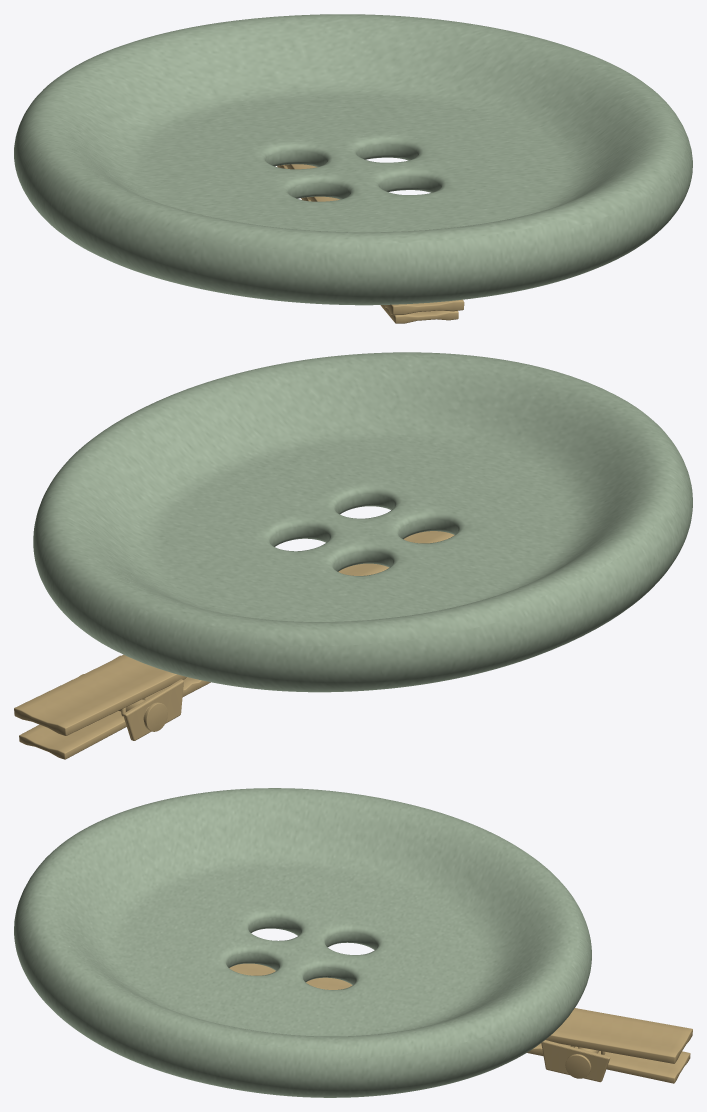
The model's file is HairClip_Silicone.glb.
3 views of the same model, one above another, from view 1: azimuth 30°, elevation 25°; view 2: azimuth 150°, elevation 25°; view 3: azimuth 270°, elevation 25° (orthographic). The views are drawn at different scales.
Parts seen in each view (by area): view 1: HairClip_Silicone__Pink_Four_Hole_Button, HairClip_Silicone__Fixed_Serrated_Jaw, HairClip_Silicone__Moving_Jaw_Static_Pose; view 2: HairClip_Silicone__Pink_Four_Hole_Button, HairClip_Silicone__Fixed_Serrated_Jaw, HairClip_Silicone__Moving_Jaw_Static_Pose, HairClip_Silicone__Pivot_Cheek_L; view 3: HairClip_Silicone__Pink_Four_Hole_Button, HairClip_Silicone__Fixed_Serrated_Jaw, HairClip_Silicone__Moving_Jaw_Static_Pose, HairClip_Silicone__Pivot_Cheek_R, HairClip_Silicone__Pivot_Head_R.
Part boxes in pixels (x1,y1,x2,y2): HairClip_Silicone__Pink_Four_Hole_Button: [14, 14, 692, 305]; HairClip_Silicone__Fixed_Serrated_Jaw: [284, 164, 464, 315]; HairClip_Silicone__Moving_Jaw_Static_Pose: [277, 165, 458, 323]; HairClip_Silicone__Pink_Four_Hole_Button: [33, 352, 692, 692]; HairClip_Silicone__Fixed_Serrated_Jaw: [14, 531, 454, 735]; HairClip_Silicone__Moving_Jaw_Static_Pose: [19, 677, 210, 759]; HairClip_Silicone__Pivot_Cheek_L: [123, 679, 183, 740]; HairClip_Silicone__Pink_Four_Hole_Button: [14, 788, 591, 1097]; HairClip_Silicone__Fixed_Serrated_Jaw: [229, 963, 692, 1063]; HairClip_Silicone__Moving_Jaw_Static_Pose: [527, 1043, 690, 1083]; HairClip_Silicone__Pivot_Cheek_R: [541, 1040, 610, 1082]; HairClip_Silicone__Pivot_Head_R: [565, 1054, 591, 1078].
Bounding box in the file's own units: 39.83 × 10.19 × 46.77.
Materials: 2 (2 with a texture image).
